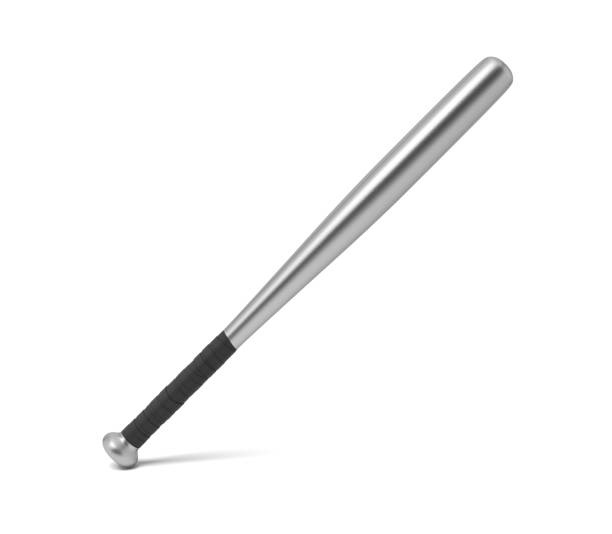bita: (102, 60, 510, 465)
